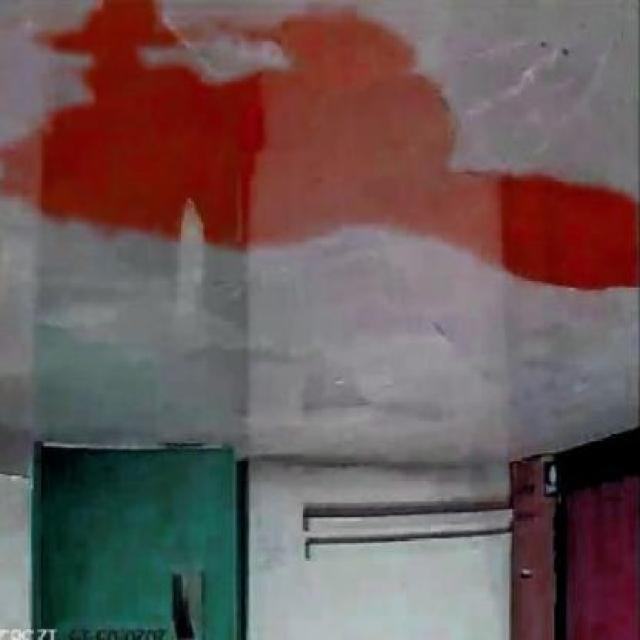spillage: (0, 0, 638, 290)
